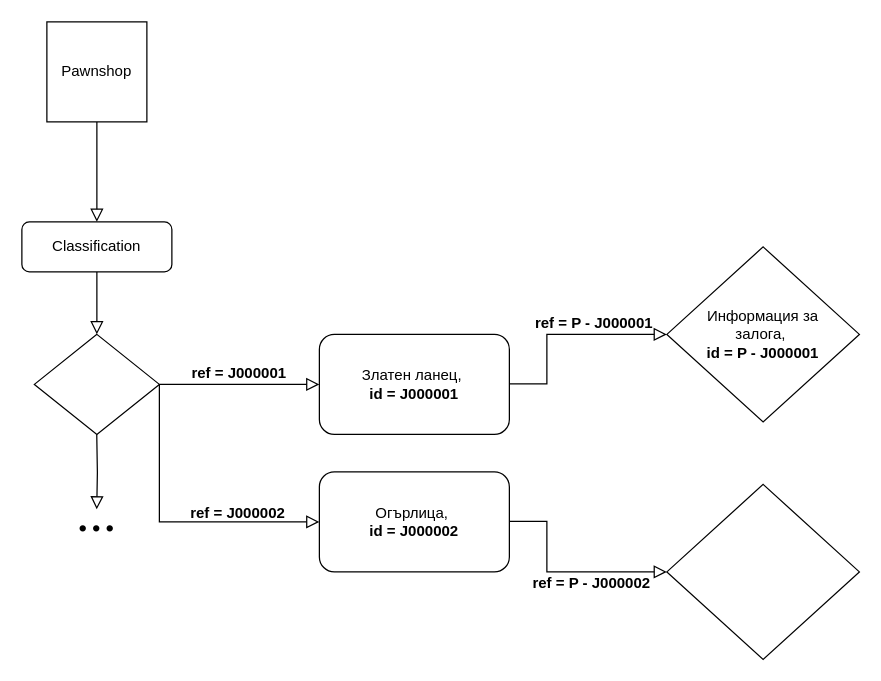
Image size: 881x681. Some labels were removed from this diagram. Here are the shapes that lost their labels. From the top down, the centre of each, then its label:
At point (96, 383): "Jewellery".
At point (762, 571): "Информация за залога, id = P - J000002".
